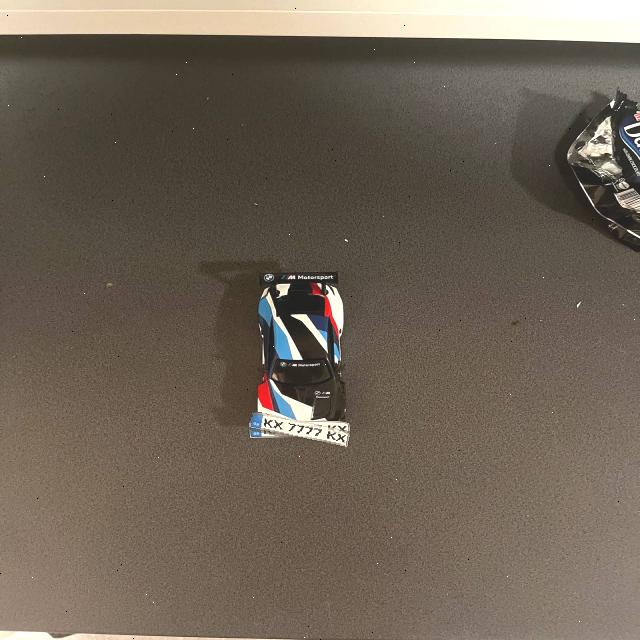KX 7777 KX: (250, 416, 352, 446)
